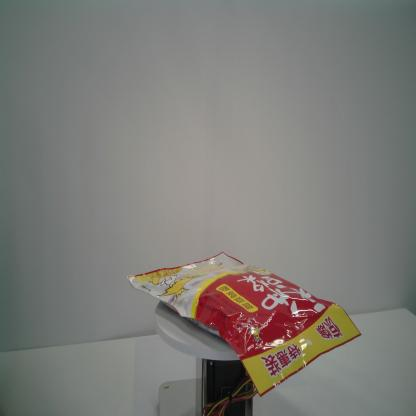Instant Drink: (128, 252, 362, 396)
